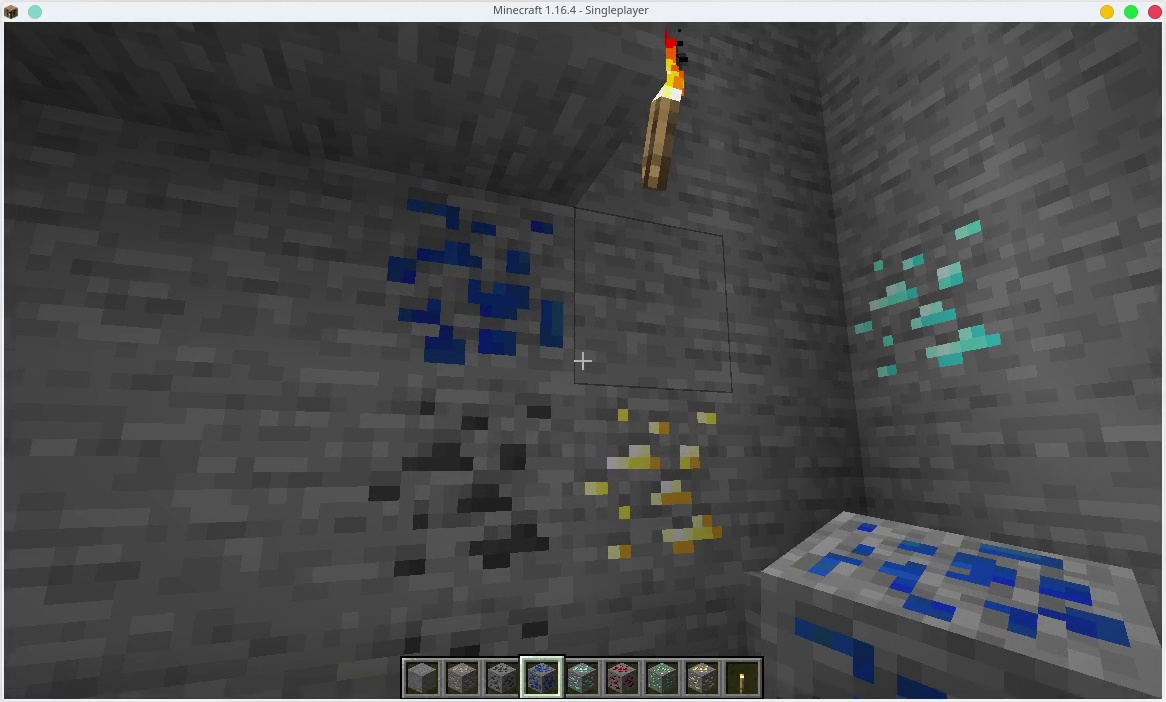gold: (575, 404, 738, 559), (684, 662, 719, 697)
